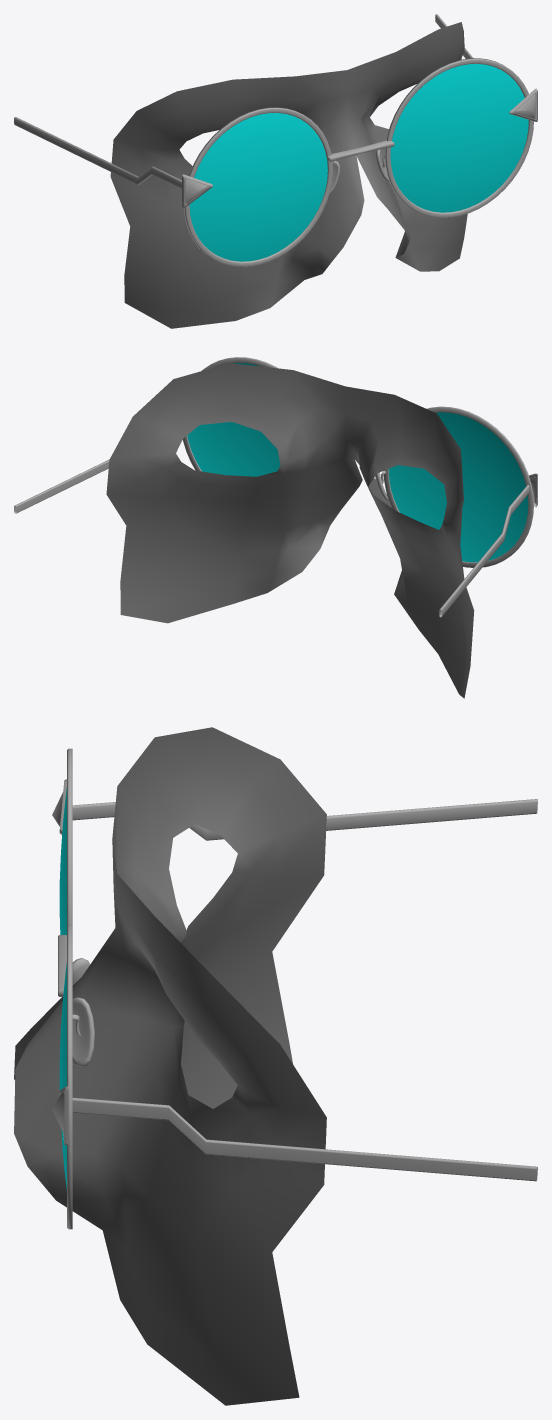
The model's file is glasses_PeachHairstyle.fbx.
The picture shows the model from 3 angles, top to bottom: view 1: azimuth 30°, elevation 25°; view 2: azimuth 150°, elevation 25°; view 3: azimuth 270°, elevation 25°; orthographic projection. The views are drawn at different scales.
Visible parts, largest first — view 1: geo_shadow, glasses_PeachHairstyle; view 2: geo_shadow, glasses_PeachHairstyle; view 3: geo_shadow, glasses_PeachHairstyle.
Part boxes in pixels (x1,y1,x2,y2): geo_shadow: (110,22,467,328); glasses_PeachHairstyle: (14,14,537,266); geo_shadow: (106,363,474,698); glasses_PeachHairstyle: (14,357,537,617); geo_shadow: (14,727,326,1405); glasses_PeachHairstyle: (52,748,537,1229).
Size of the model in its own units: 161 by 91.94 by 96.35.
